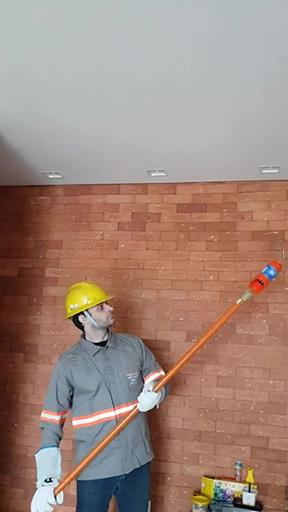Detector_Tensao_Contato: (246, 250, 288, 294)
Vara_Manobra: (31, 294, 247, 512)
